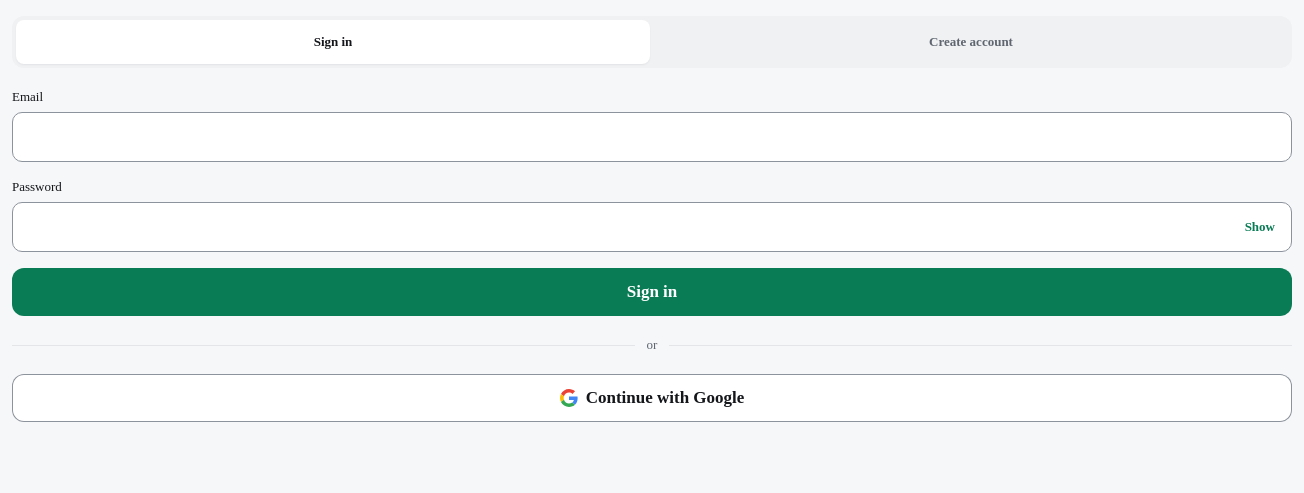
Test: LoginForm › creates an account and asks to confirm the email when there is no session yet
This screenshot has width=1304, height=493.
Click the tab "Create account". click: (971, 42)
box: [654,20,1288,64]
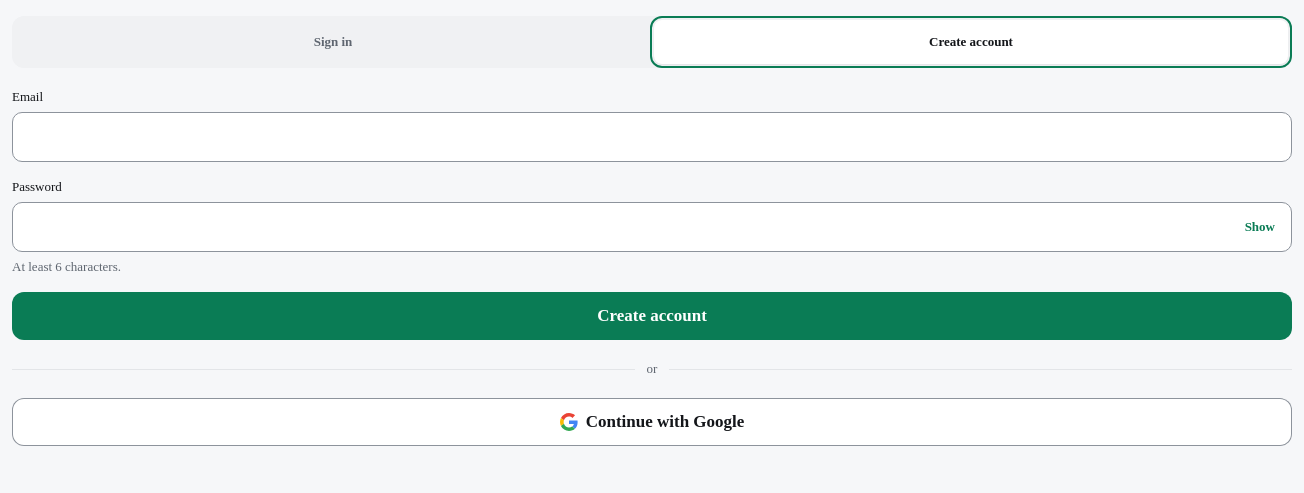
Check: the tab "Create account" is selected, box [654,20,1288,64]
Type "a@b.co" into the field labelled "Email". click: (652, 137)
box: [13,113,1291,161]
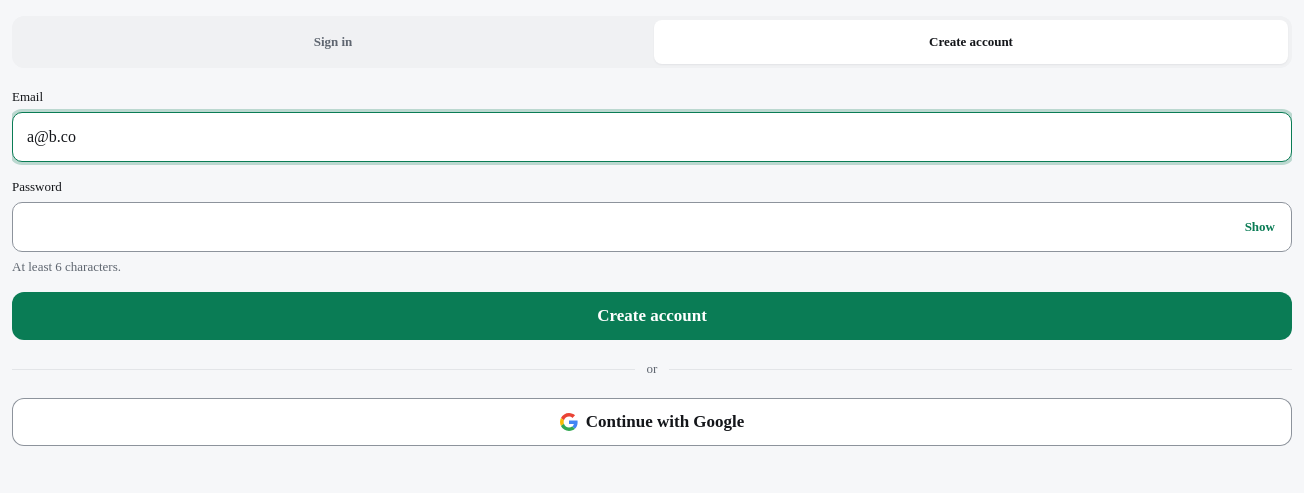
Type "secret1" into the password field labelled "Password". click: (623, 227)
box: [13,203,1233,251]
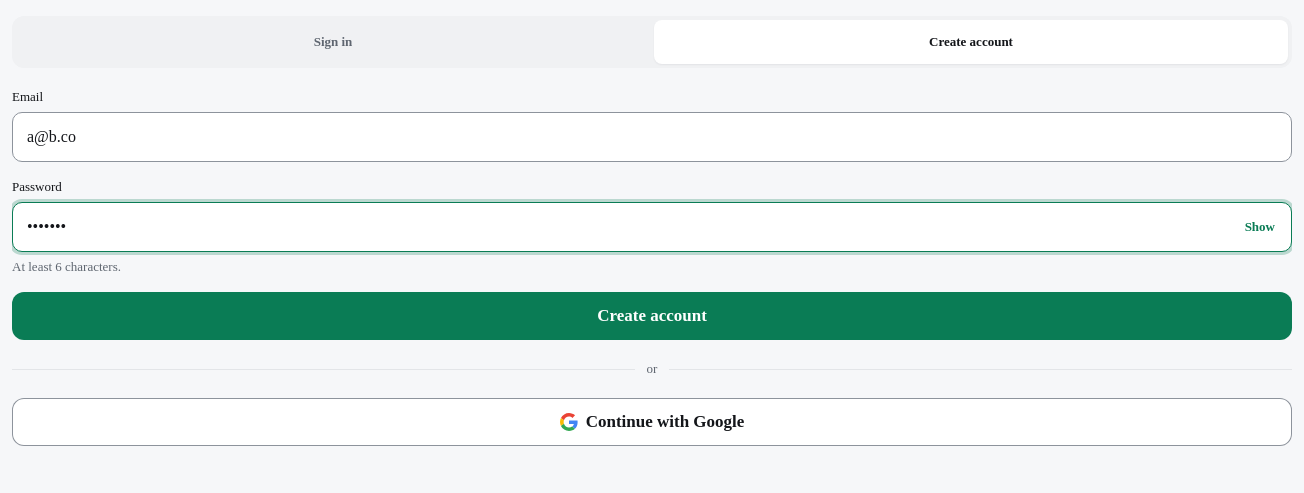
Click the button "Create account". click: (652, 316)
box: [12,292,1292,340]
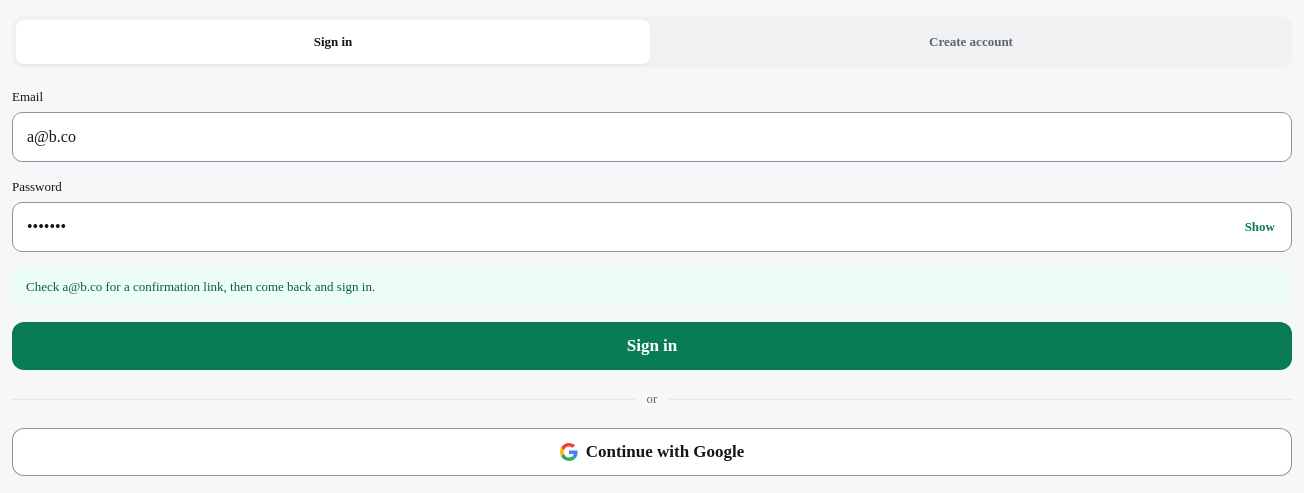
Check: the text "Check a@b.co for a confirmation link, then come back and sign in." is shown, box [12,268,1292,306]
